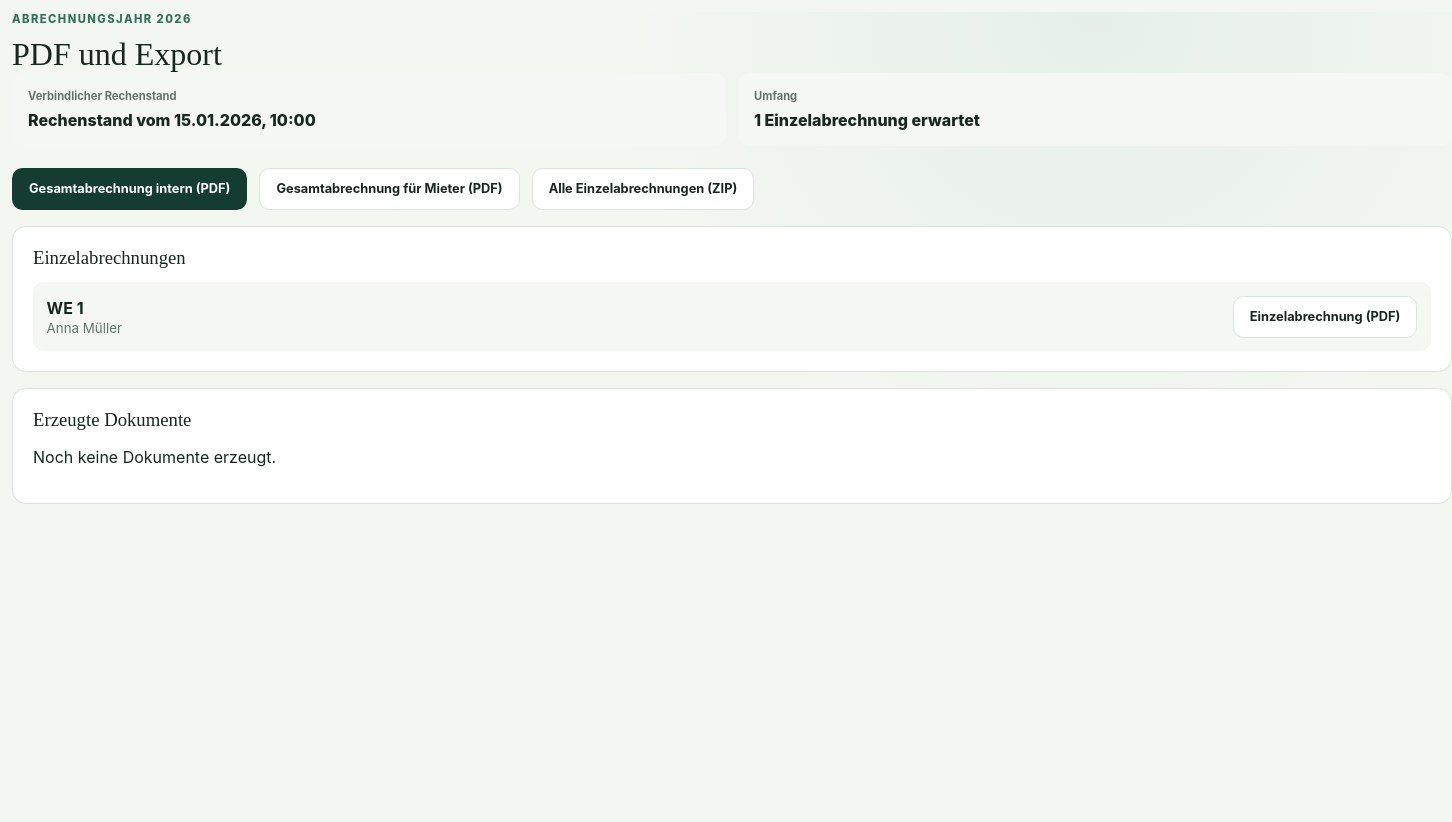
PdfExportRoute › meldet, wenn der Dokumenteneintrag nicht gespeichert werden kann
What coordinates should you click on to do the following:
click the button "Gesamtabrechnung intern (PDF)"
I would click on:
 (130, 189)
Its box is [12, 168, 247, 210].
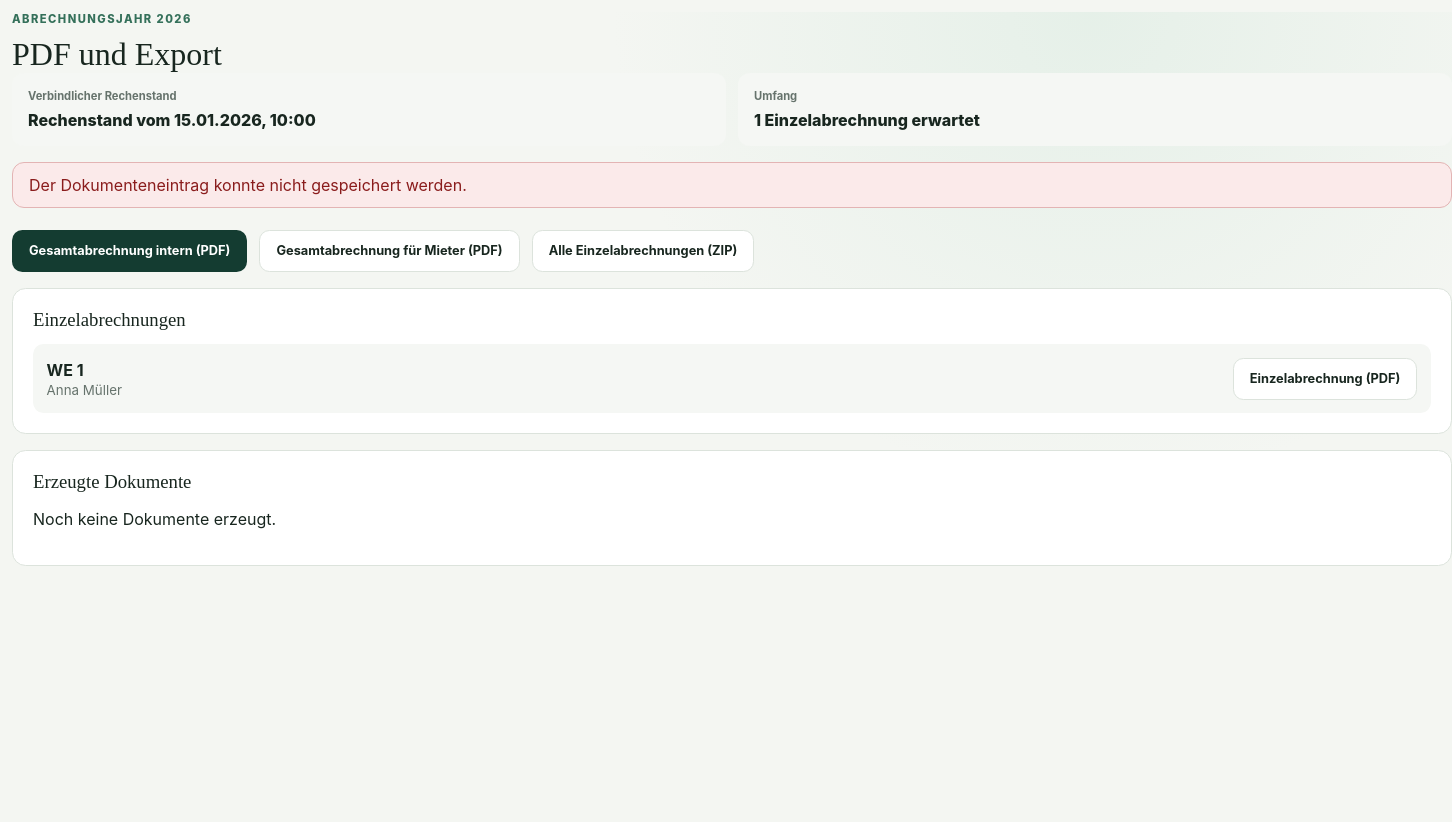
expect the message shows "nicht gespeichert": met, box [29, 175, 467, 195]
